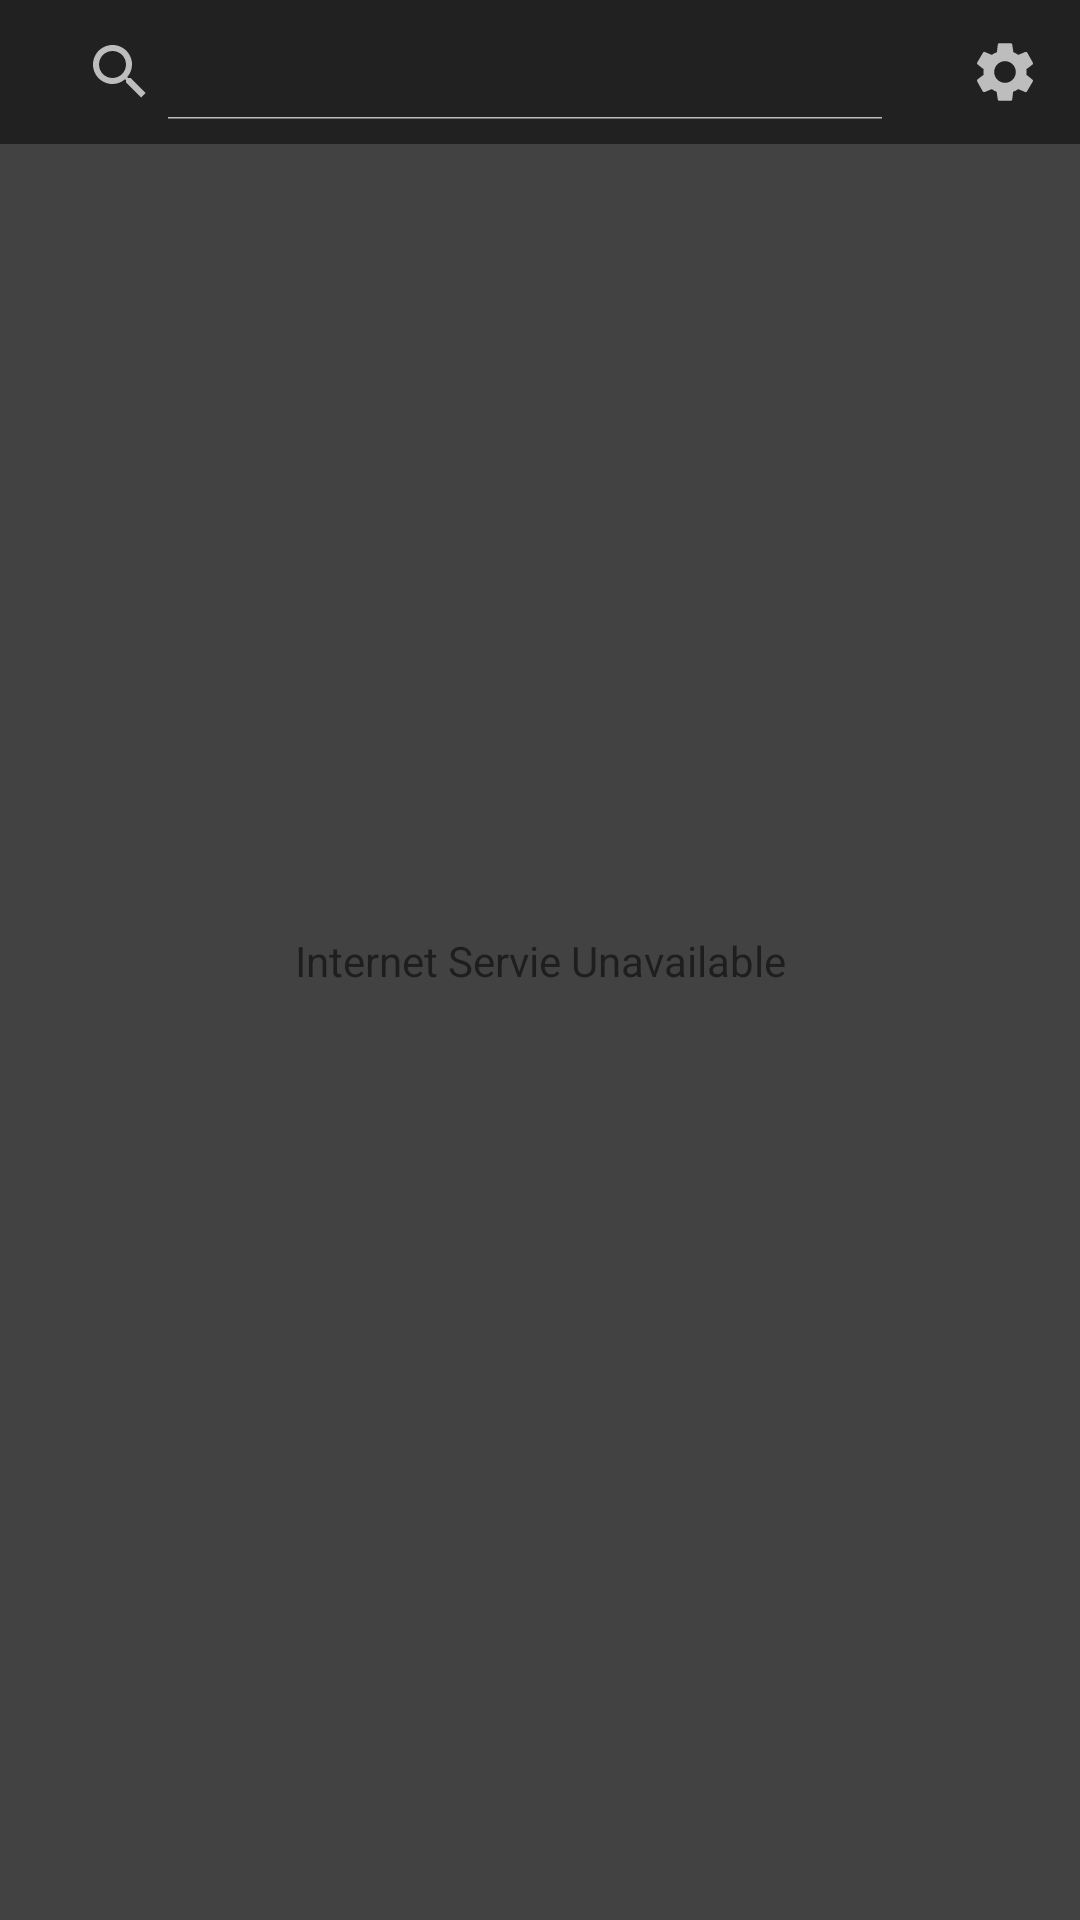

Where to tap for icons on this 1080×1920 app screen, as (x,y):
settings: (1005,72)
